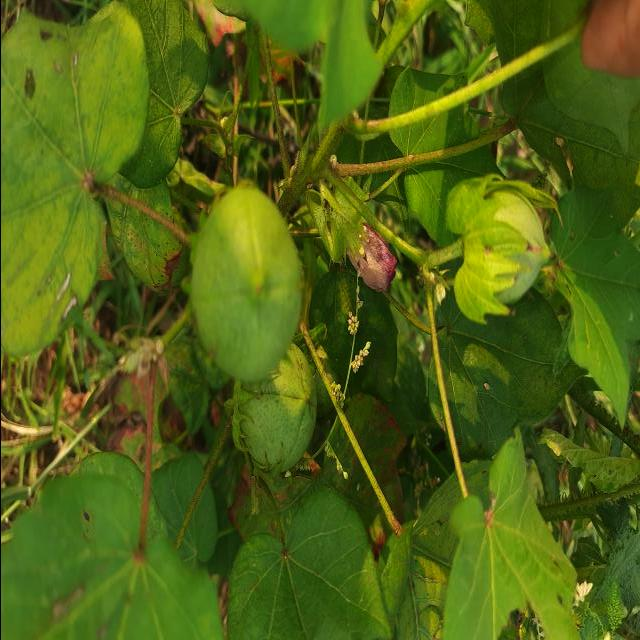Cotton Blossom: (314, 181, 398, 295)
Early Boll: (184, 173, 310, 380), (442, 174, 560, 324), (231, 342, 321, 477)
